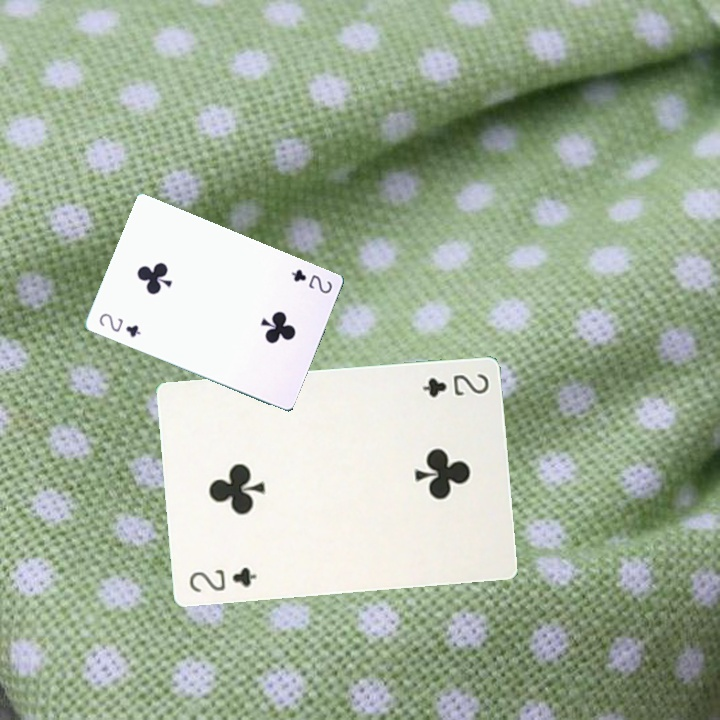2c: (185, 563, 259, 595), (418, 369, 491, 400), (95, 309, 143, 340), (287, 265, 335, 296)
